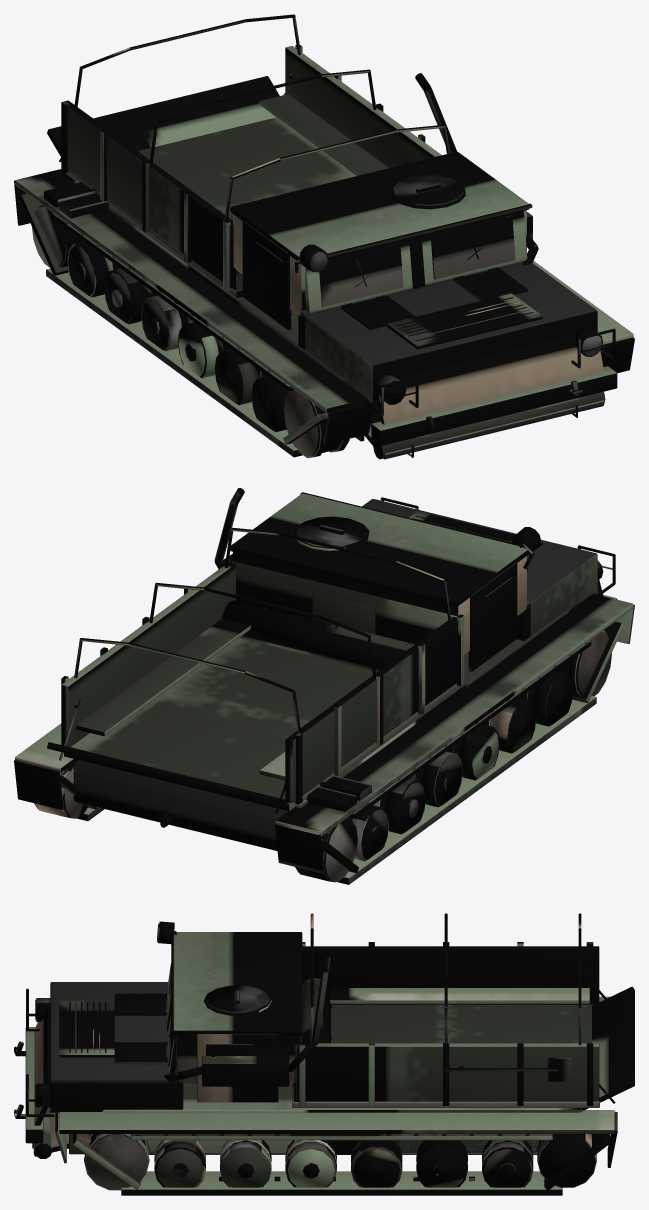
File: gtt_transporter.glb
3 renders of one model, top to bottom at view 1: azimuth 30°, elevation 25°; view 2: azimuth 150°, elevation 25°; view 3: azimuth 270°, elevation 25°, orthographic. The views are drawn at different scales.
Visible parts, largest first — view 1: gtt_transporter; view 2: gtt_transporter; view 3: gtt_transporter.
Part boxes in pixels (box(x1,y1,x2,y2)): gtt_transporter: box(14, 14, 634, 459); gtt_transporter: box(14, 488, 634, 884); gtt_transporter: box(14, 913, 634, 1195).
Bounding box in the file's own units: 3.18 × 2.38 × 6.26.
1 material, 1 textured.
